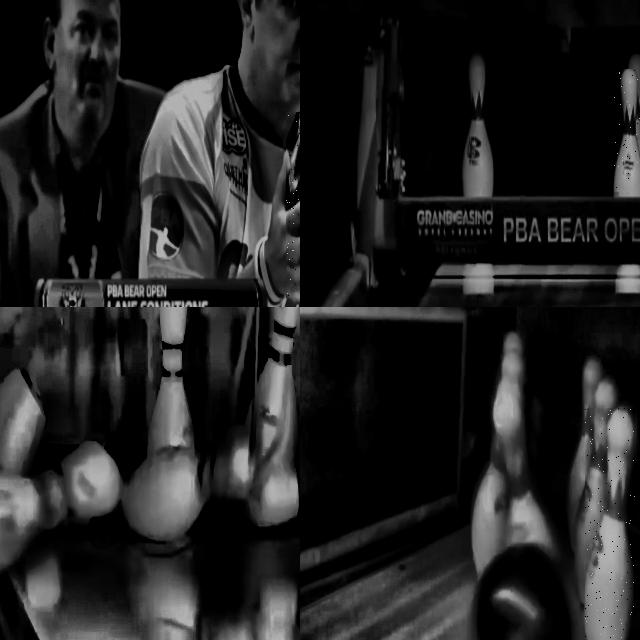bowling-ball: (474, 546, 573, 640)
bowling-pins: (585, 409, 635, 640), (575, 377, 617, 602), (567, 358, 602, 550), (462, 53, 493, 197), (614, 69, 640, 193), (629, 53, 640, 153)
sweep board: (396, 197, 640, 263)
